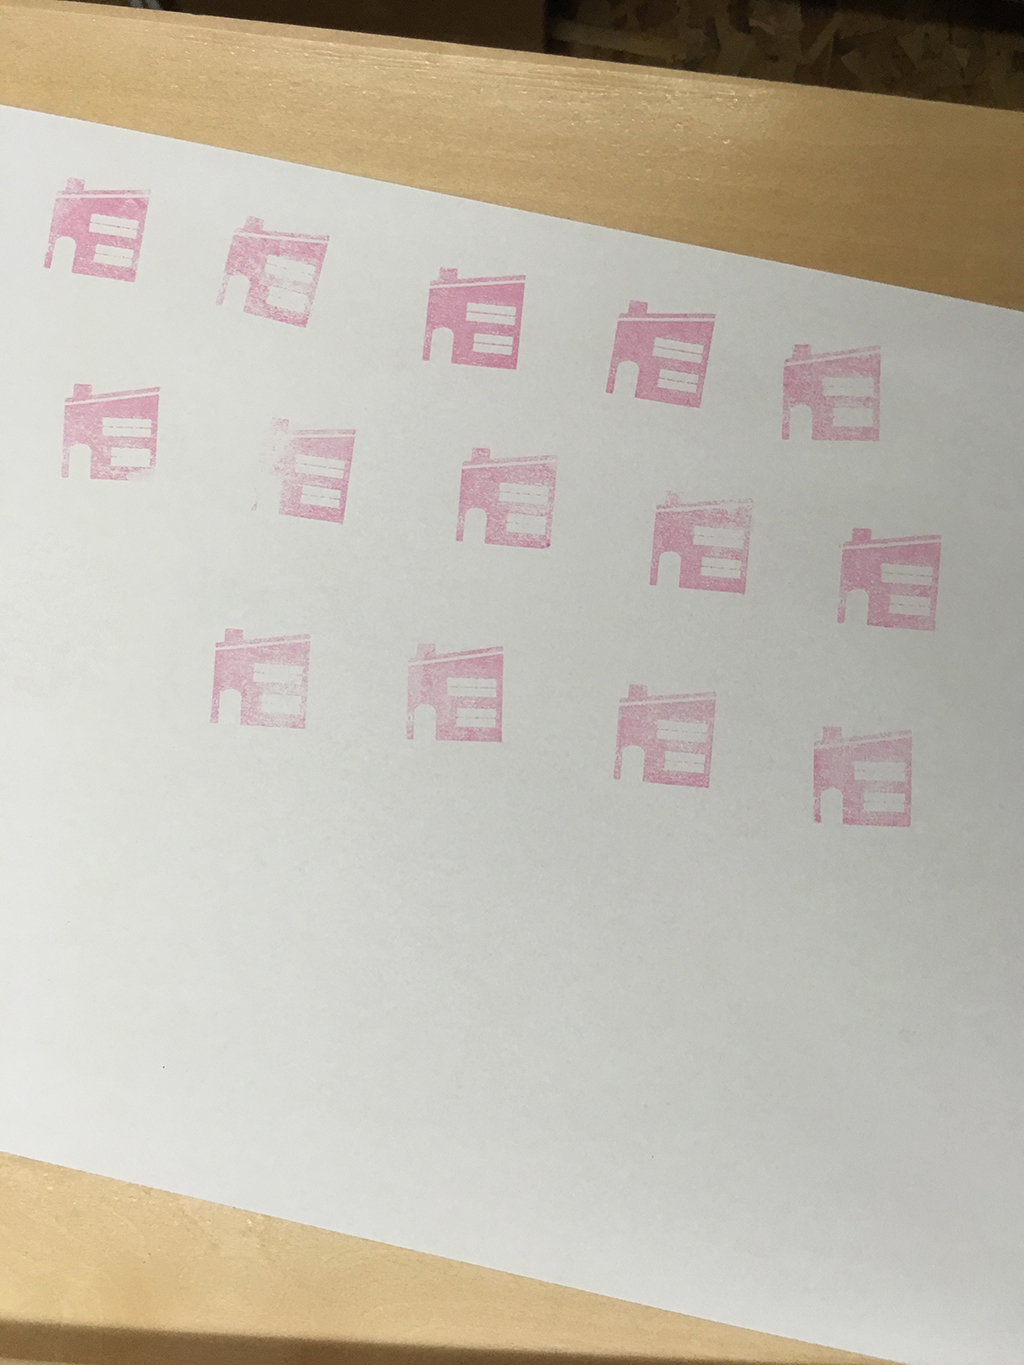house: (593, 290, 729, 424), (594, 669, 733, 798), (197, 207, 335, 336), (228, 404, 364, 535), (41, 375, 177, 504), (33, 158, 163, 290), (794, 709, 925, 838), (632, 483, 766, 606), (414, 252, 535, 385), (393, 629, 516, 755), (443, 435, 564, 561), (771, 327, 886, 458), (202, 616, 325, 739), (827, 524, 947, 644)
